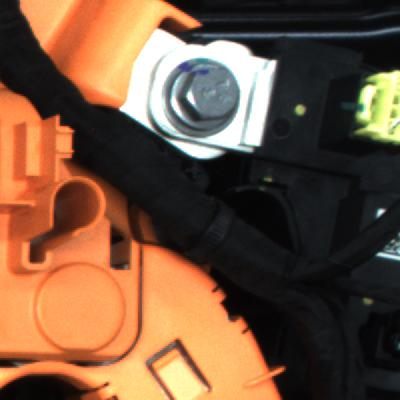nut_b: (167, 58, 250, 138)
